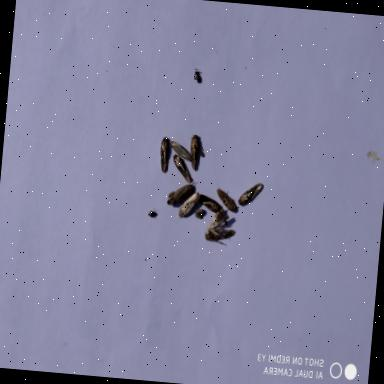pbw: (164, 172, 200, 213), (236, 176, 268, 212), (175, 188, 207, 224), (200, 222, 240, 249), (156, 130, 177, 176), (186, 128, 206, 174), (169, 152, 197, 184), (212, 186, 241, 214), (168, 138, 198, 165), (204, 210, 234, 236), (198, 193, 224, 216)
